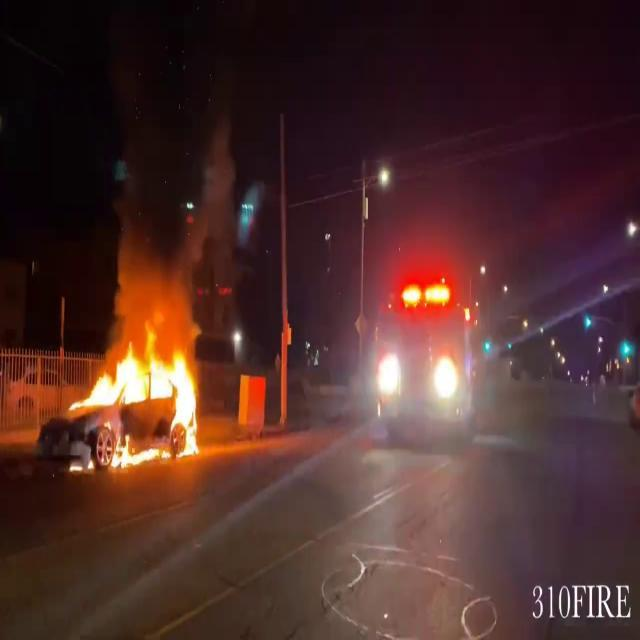Fire: (80, 313, 204, 467)
Smoke: (105, 89, 239, 332)
